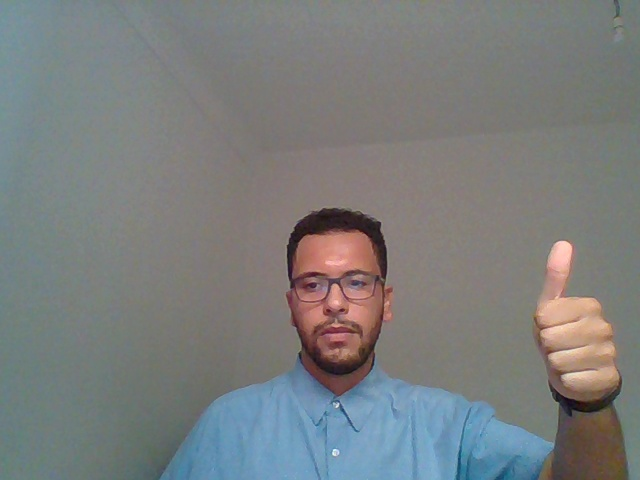ok: (510, 194, 640, 451)
